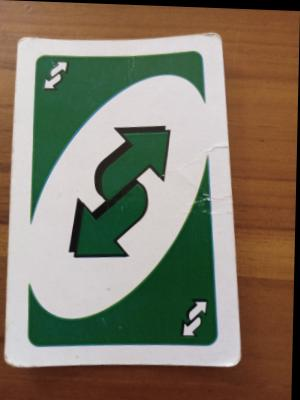green: (31, 50, 224, 346)
reverse: (38, 54, 73, 93), (181, 295, 210, 338)
